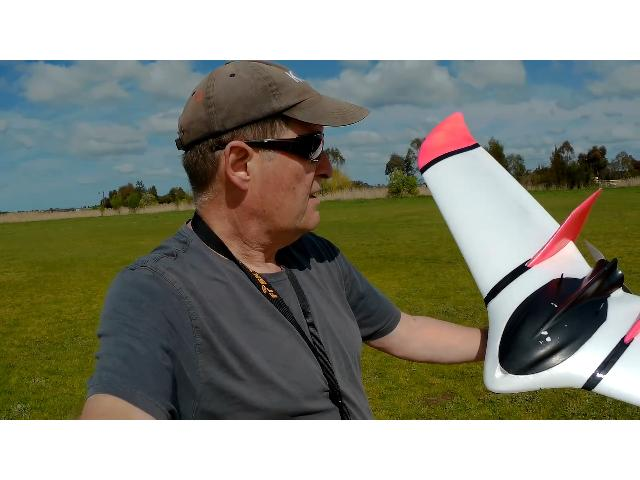Anti-Drone: (398, 100, 640, 419)
